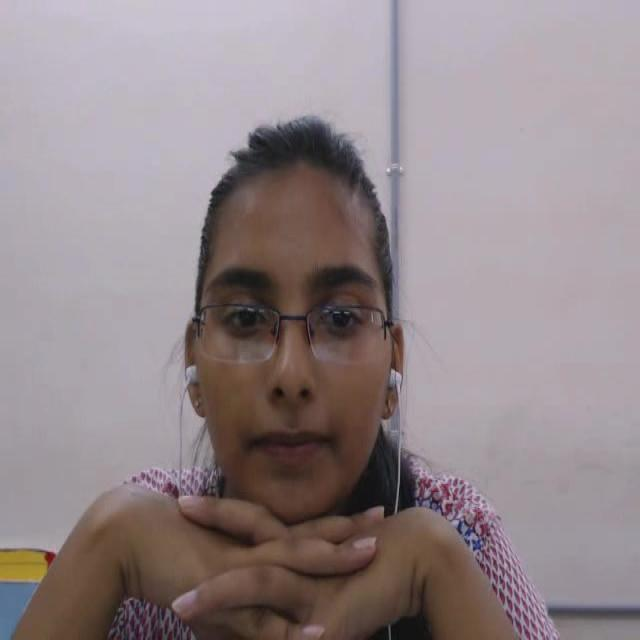Bored: (168, 109, 427, 558)
